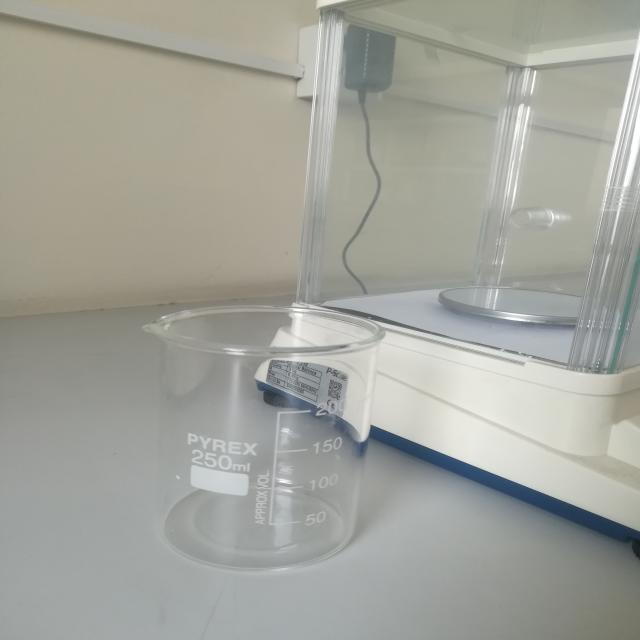Beaker: (58, 269, 442, 602)
